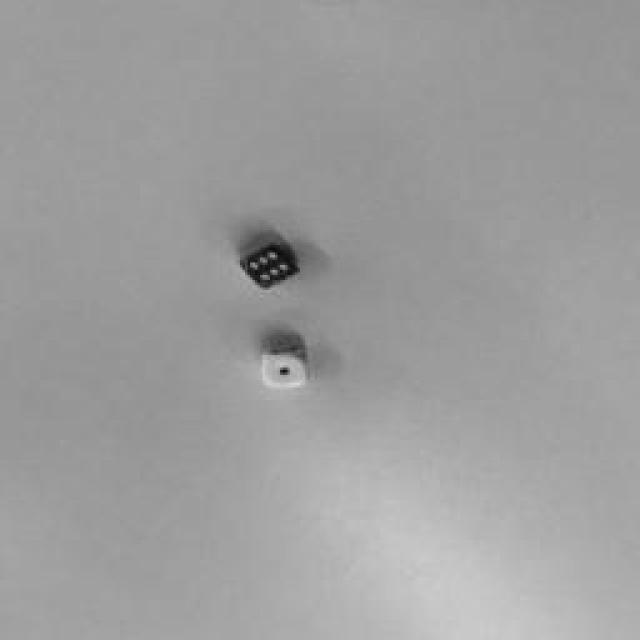dice_1: (262, 355, 308, 387)
dice_6: (244, 245, 298, 287)
